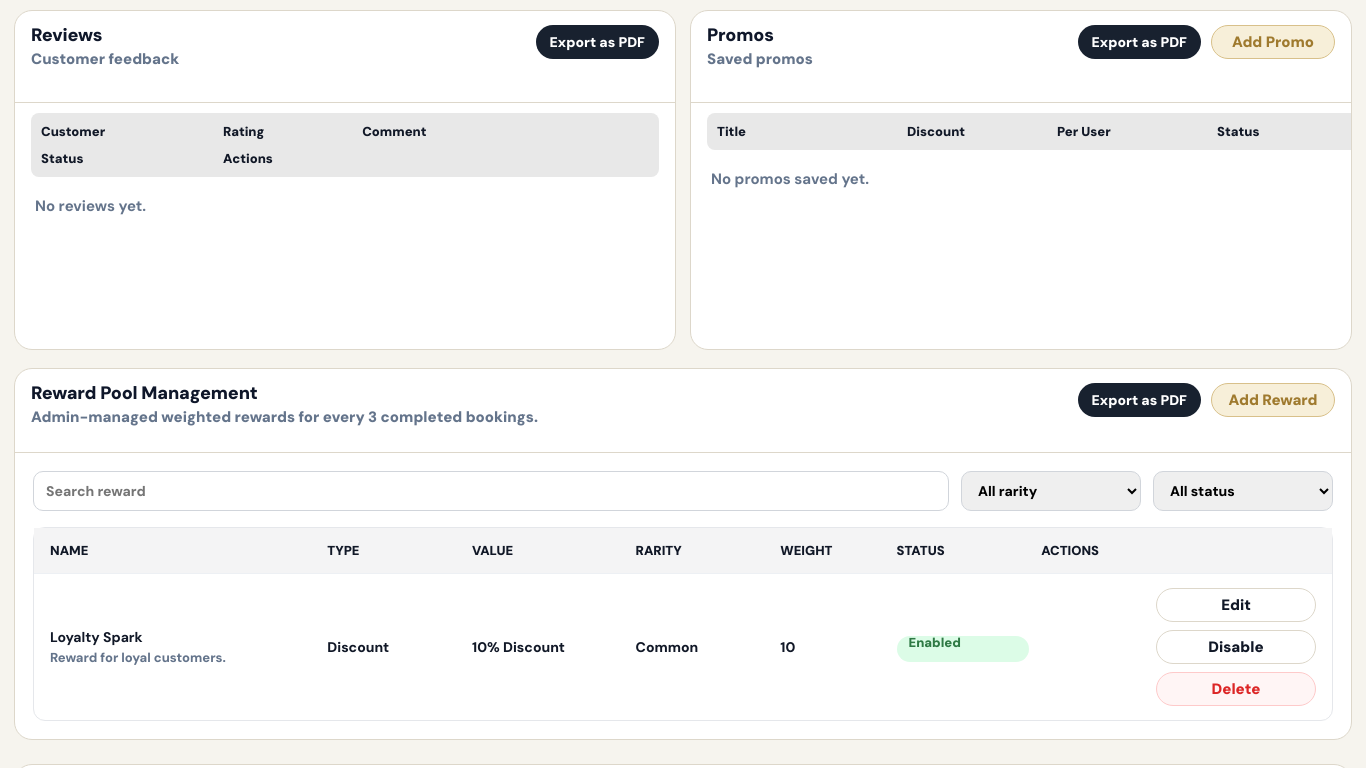
Test case: Add Reward modal validation › preselects Percentage Discount as Discount when editing
Step 1. Click the button "Edit" → x=1236, y=605, box [1156,588,1316,622]
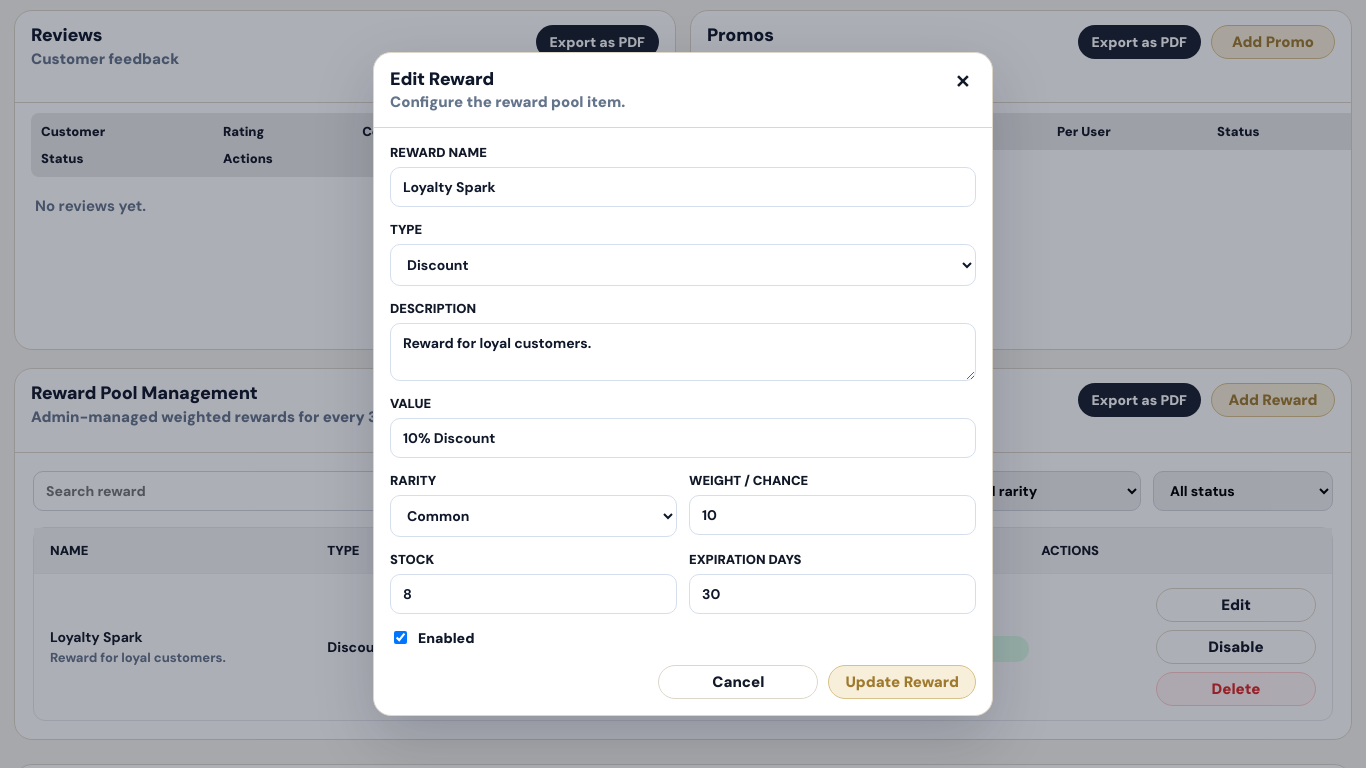
Check: the dropdown with id "reward-type" shows "Discount", box [390,244,976,286]
